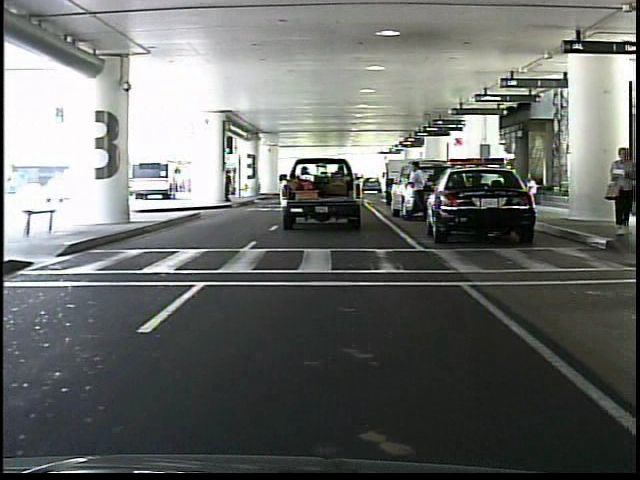person: (604, 146, 634, 239), (410, 159, 429, 226)
